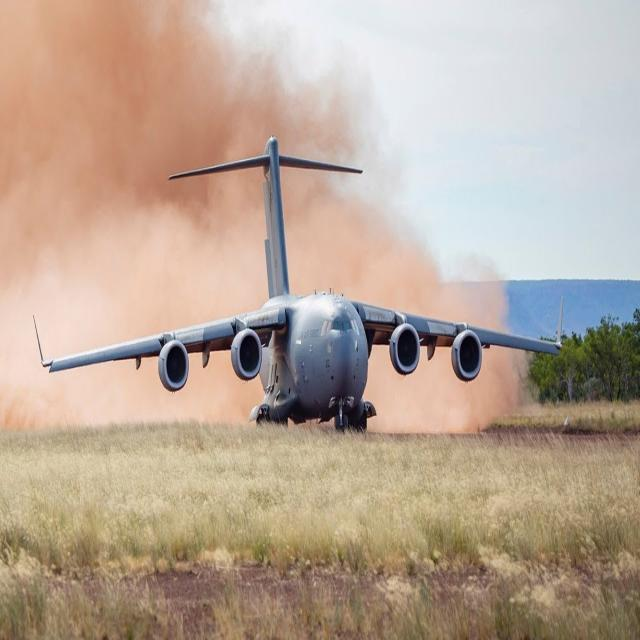MIL_Plane: (32, 136, 564, 430)
